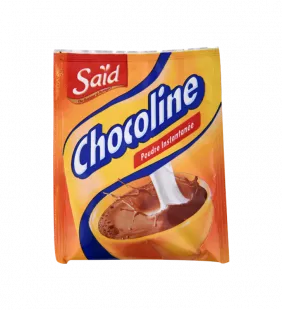SAID: (44, 36, 236, 269)
